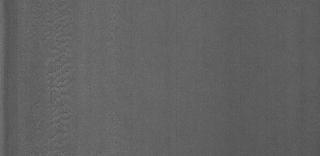silk spot: (34, 0, 82, 148)
